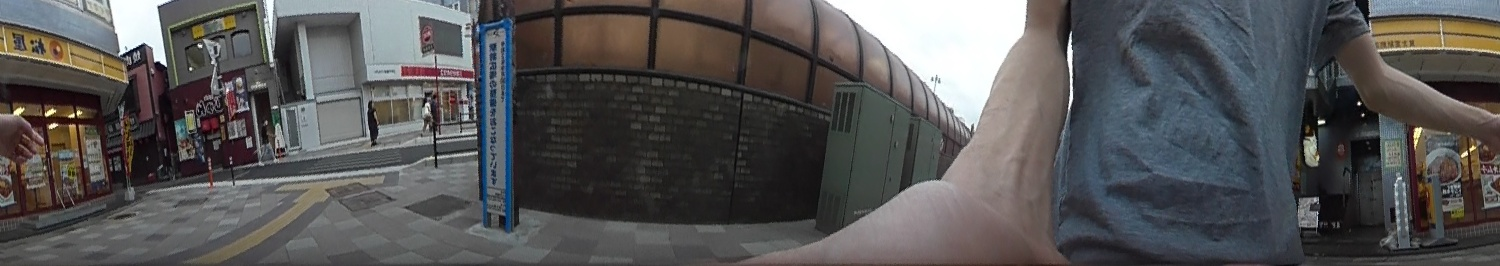difficult_person: (258, 118, 278, 162), (364, 98, 380, 146), (421, 93, 433, 134), (430, 91, 439, 130)
